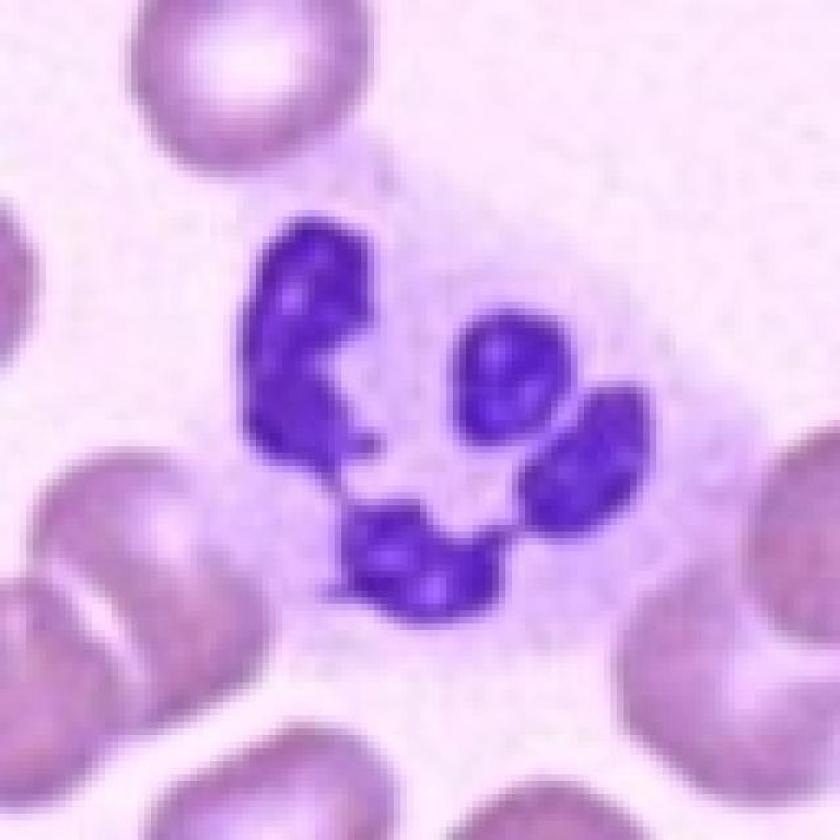neutrophil: (173, 136, 753, 669)
